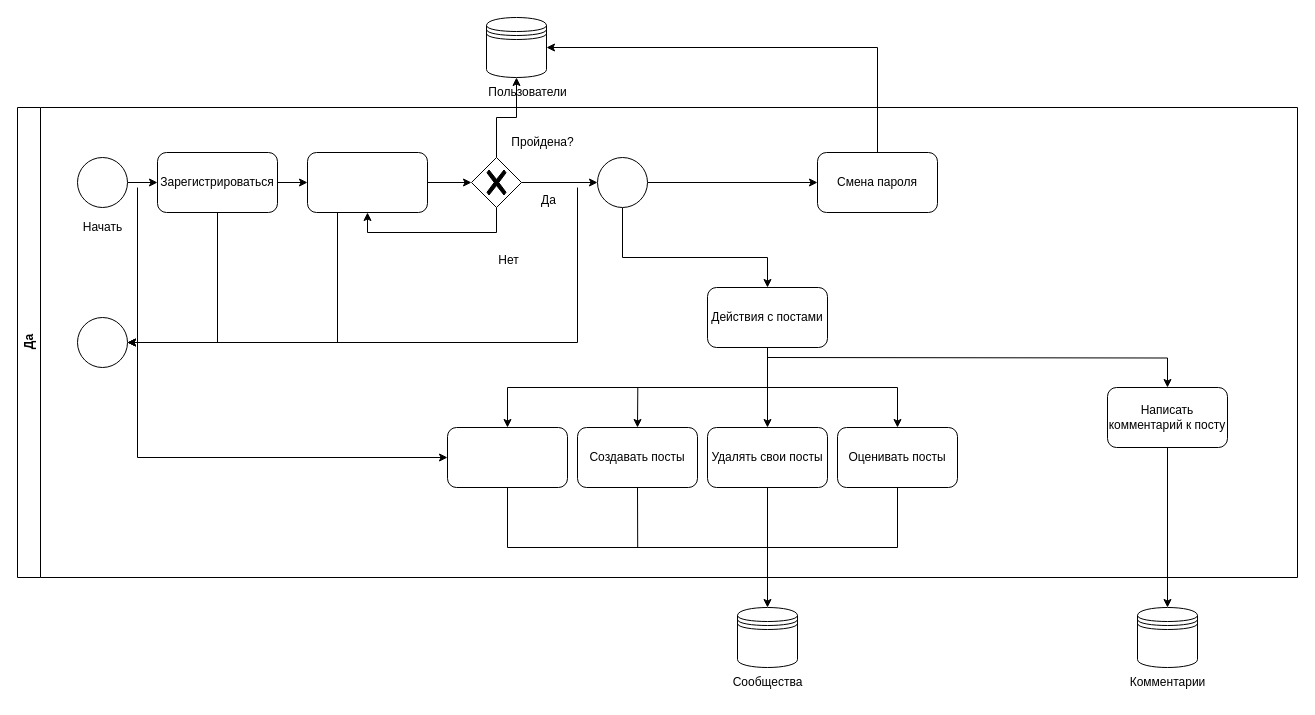
The diagram is 1315 pixels wide and 715 high, and some of its shapes have lost their labels. Each missing label, with the centre of its shape:
Авторизоваться: the point at 367,182
Выбор действия: the point at 622,182
Выход: the point at 102,342
Смотреть посты: the point at 507,457
